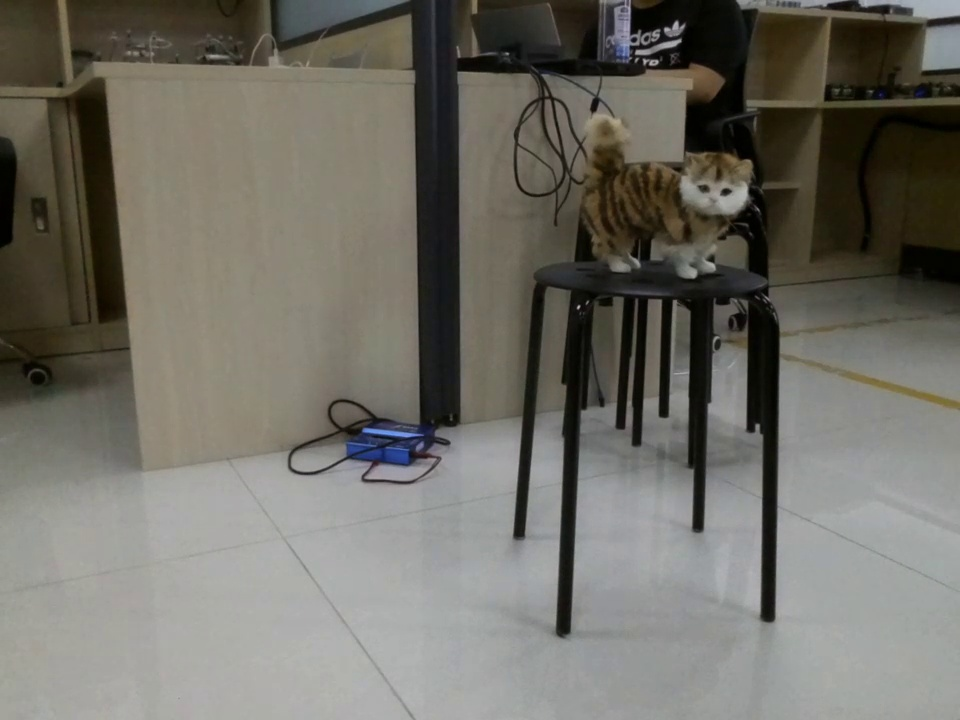cat: (575, 112, 762, 277)
